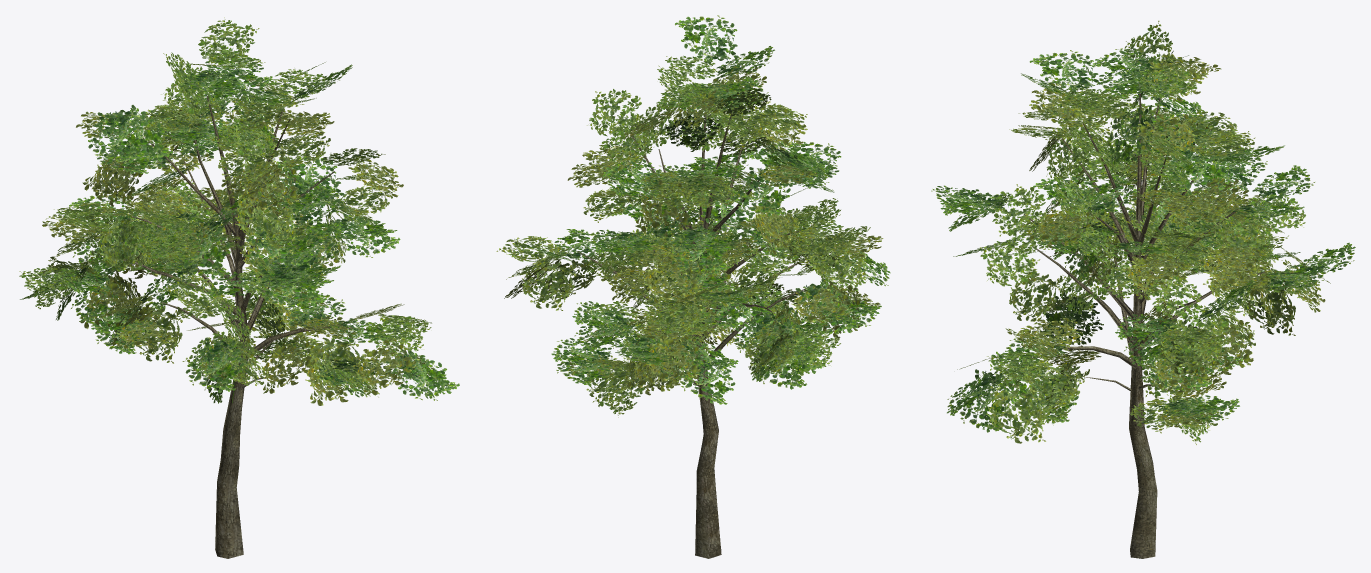
The model's file is tree1a_lod2.gltf.
3 renders of one model, left to right at view 1: azimuth 30°, elevation 25°; view 2: azimuth 150°, elevation 25°; view 3: azimuth 270°, elevation 25°, orthographic. The views are drawn at different scales.
Parts seen in each view (by area): view 1: polySurface1043, polySurface459; view 2: polySurface1043, polySurface459; view 3: polySurface1043, polySurface459.
Boxes of the visible parts, <box> form: polySurface1043: <box>19,17,459,405</box>; polySurface459: <box>102,95,366,558</box>; polySurface1043: <box>496,15,890,417</box>; polySurface459: <box>577,113,808,558</box>; polySurface1043: <box>931,20,1355,444</box>; polySurface459: <box>1023,84,1265,558</box>.
Bounding box in the file's own units: 15.24 × 20.23 × 15.51.
2 materials, 2 textured.
